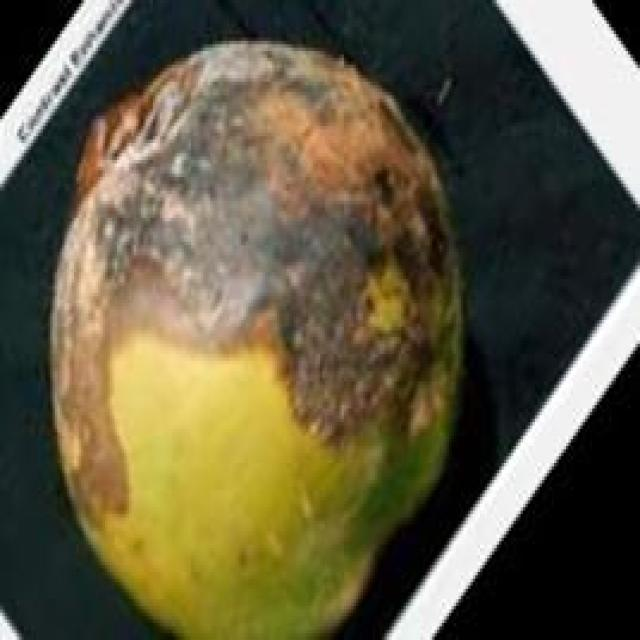damaged: (43, 41, 468, 637)
